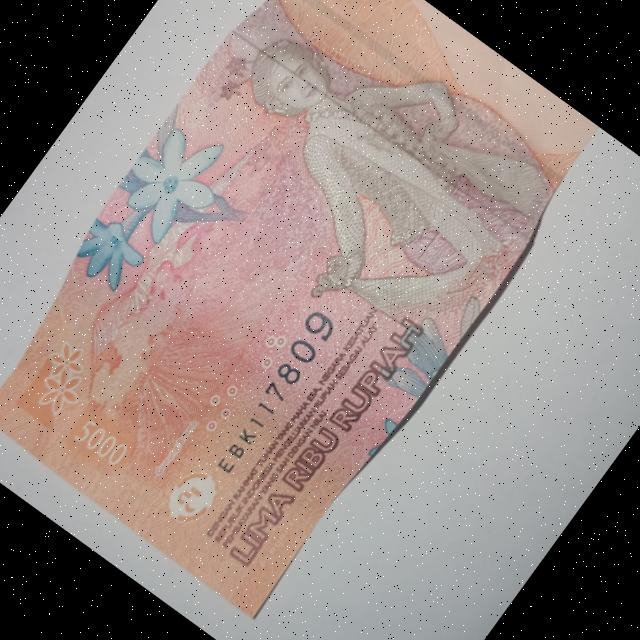5K: (0, 0, 619, 636)
